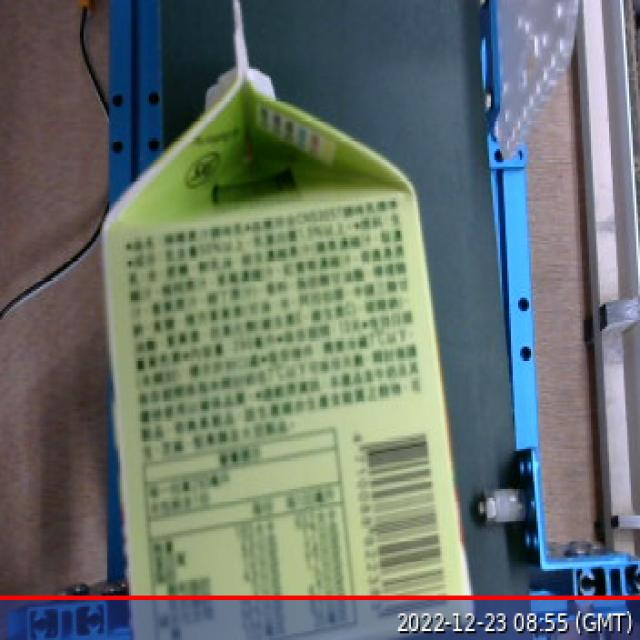non_white_jug: (70, 0, 472, 640)
